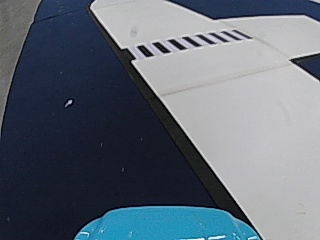CrossWalk: (130, 28, 247, 58)
